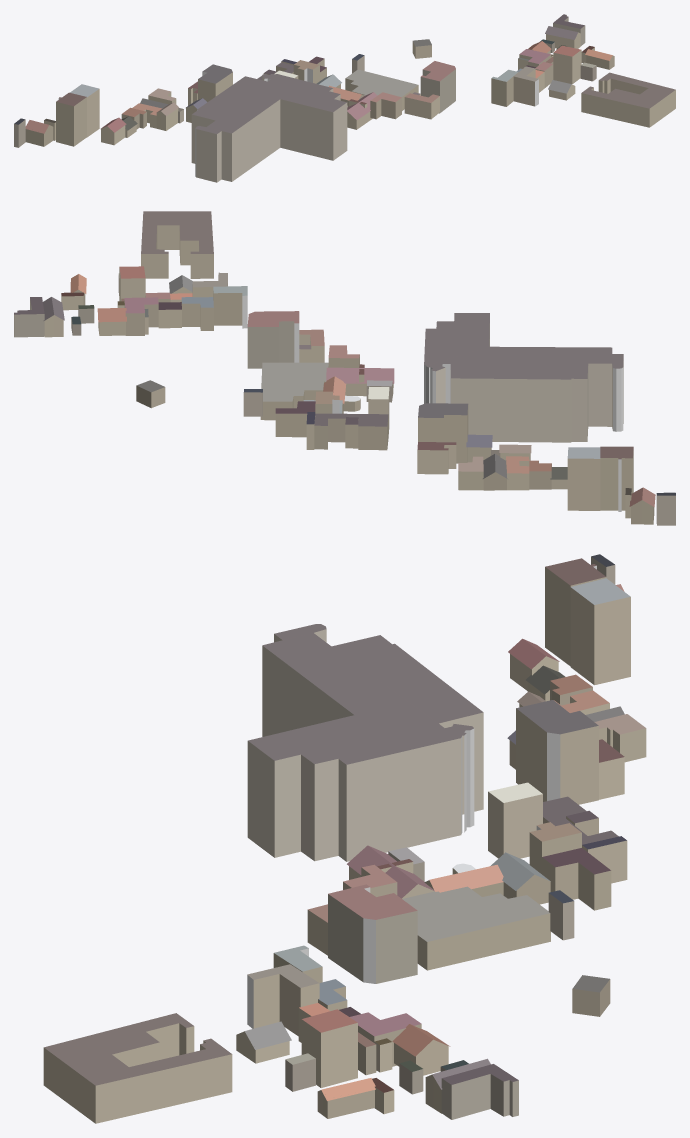
The picture shows the model from 3 angles, top to bottom: view 1: azimuth 30°, elevation 25°; view 2: azimuth 150°, elevation 25°; view 3: azimuth 270°, elevation 25°; orthographic projection. The views are drawn at different scales.
Parts seen in each view (by area): view 1: tuile; view 2: tuile; view 3: tuile.
Boxes of the visible parts, x1,y1,x2,y2 form: tuile: (14, 14, 675, 182); tuile: (14, 211, 675, 525); tuile: (43, 554, 646, 1123).
Size of the model in its own units: 248 by 22.75 by 121.
